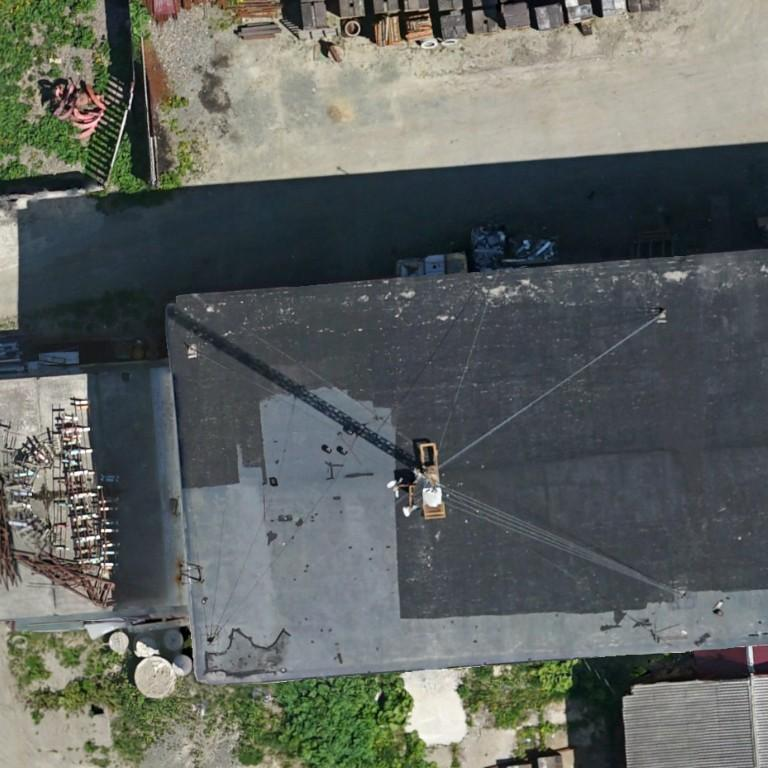hogweed: (256, 676, 430, 767), (0, 21, 92, 166), (23, 0, 95, 46), (110, 127, 147, 197), (129, 0, 148, 44), (160, 170, 181, 191)
